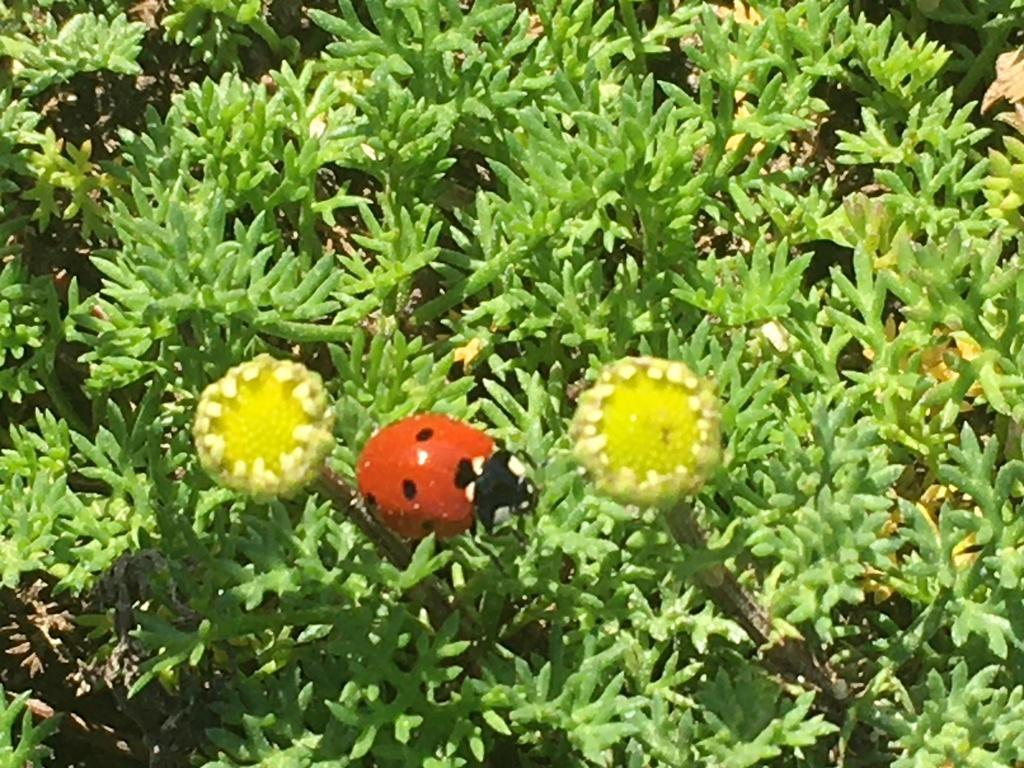ladybug: (354, 409, 549, 549)
